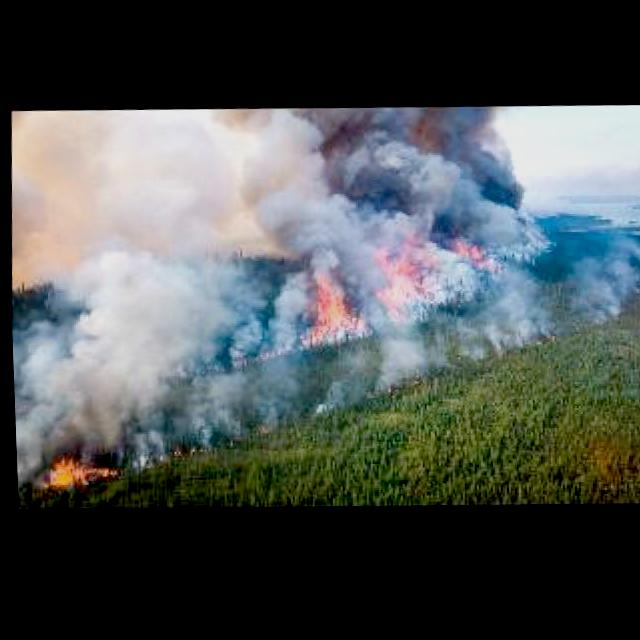Fire: (368, 218, 438, 332), (295, 263, 370, 350), (32, 443, 117, 497), (443, 230, 505, 286)
Smoke: (4, 114, 261, 449), (248, 102, 523, 246), (251, 264, 309, 366)
